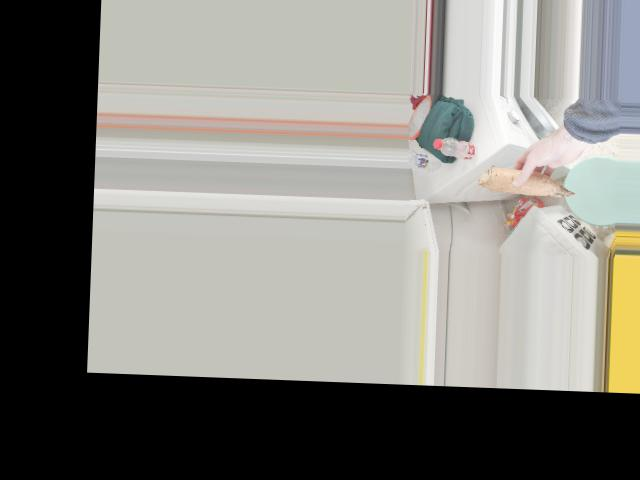sweet_potato: (484, 167, 574, 196)
